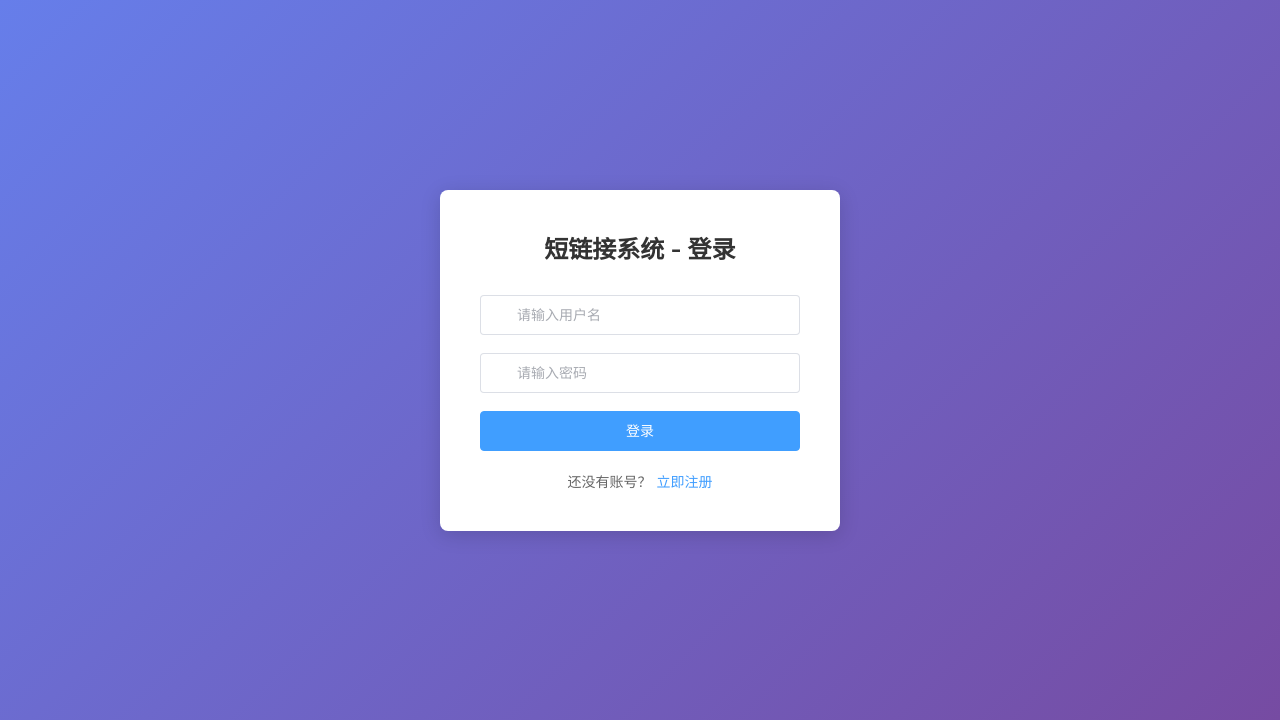
监控统计展示测试 › 正常监控统计展示流程 › 应正确显示地区分布图表
This screenshot has width=1280, height=720.
Type "testuser" into the field with placeholder "请输入用户名". click: {"x": 651, "y": 315}
box: [517,296,785,334]
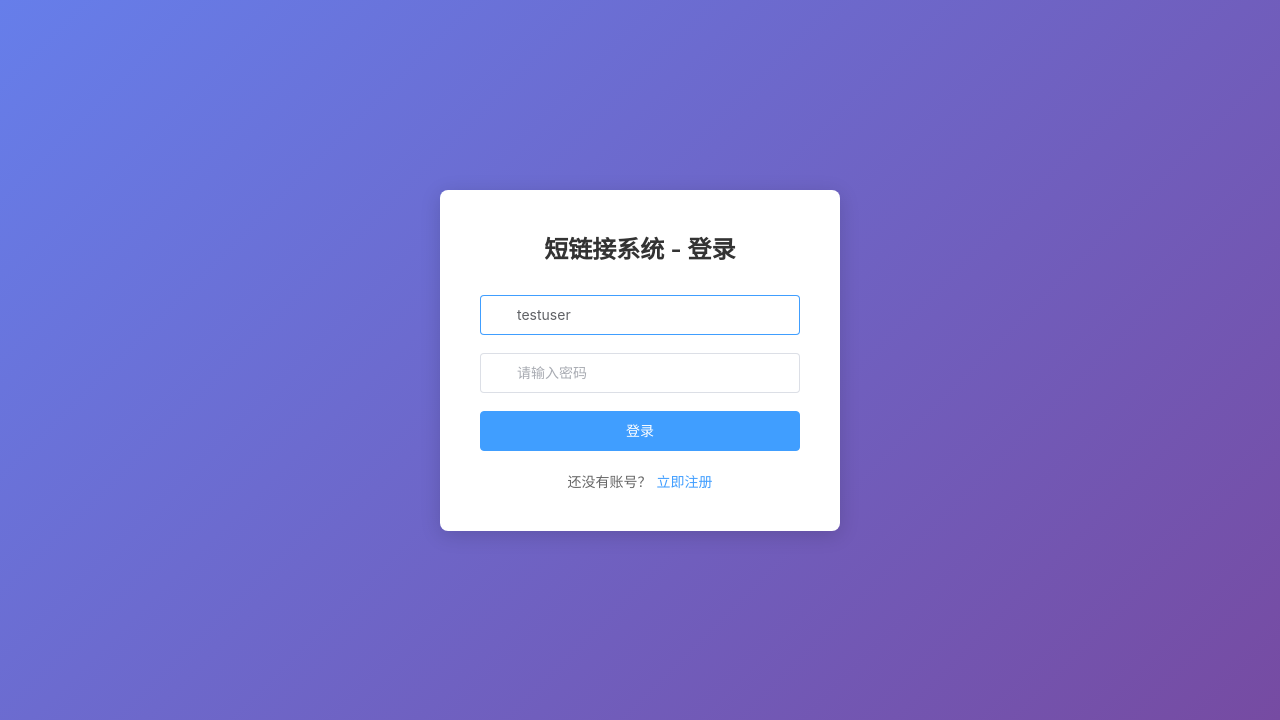
Type "test123456" into the password field with placeholder "请输入密码". click: {"x": 651, "y": 373}
box: [517,354,785,392]
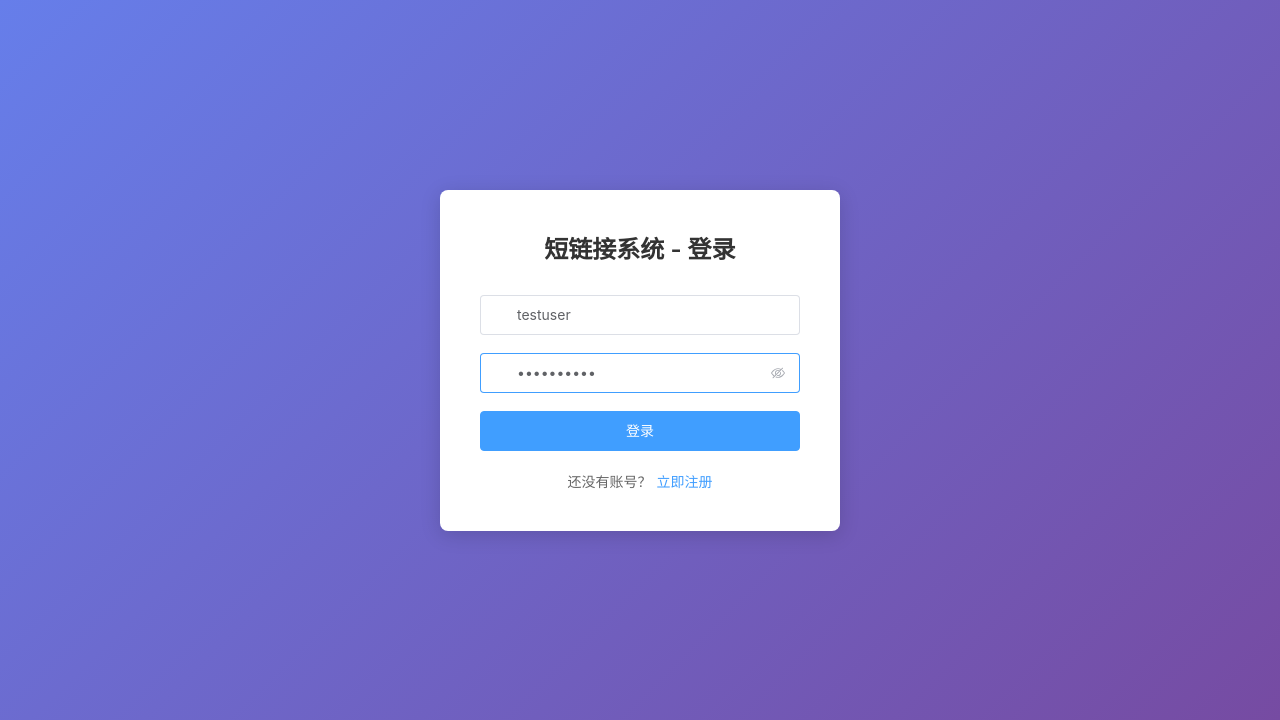
Click the button "登录". click: {"x": 640, "y": 431}
box: [480,411,800,451]
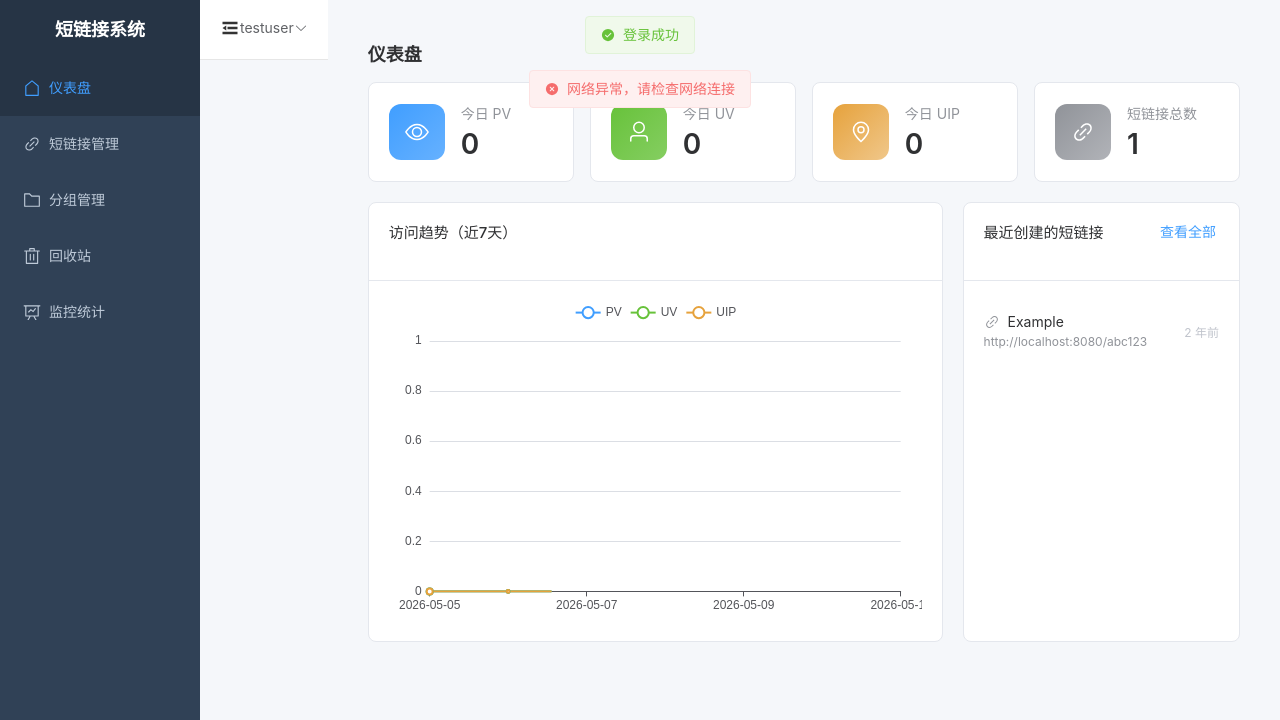
Open "/stats"
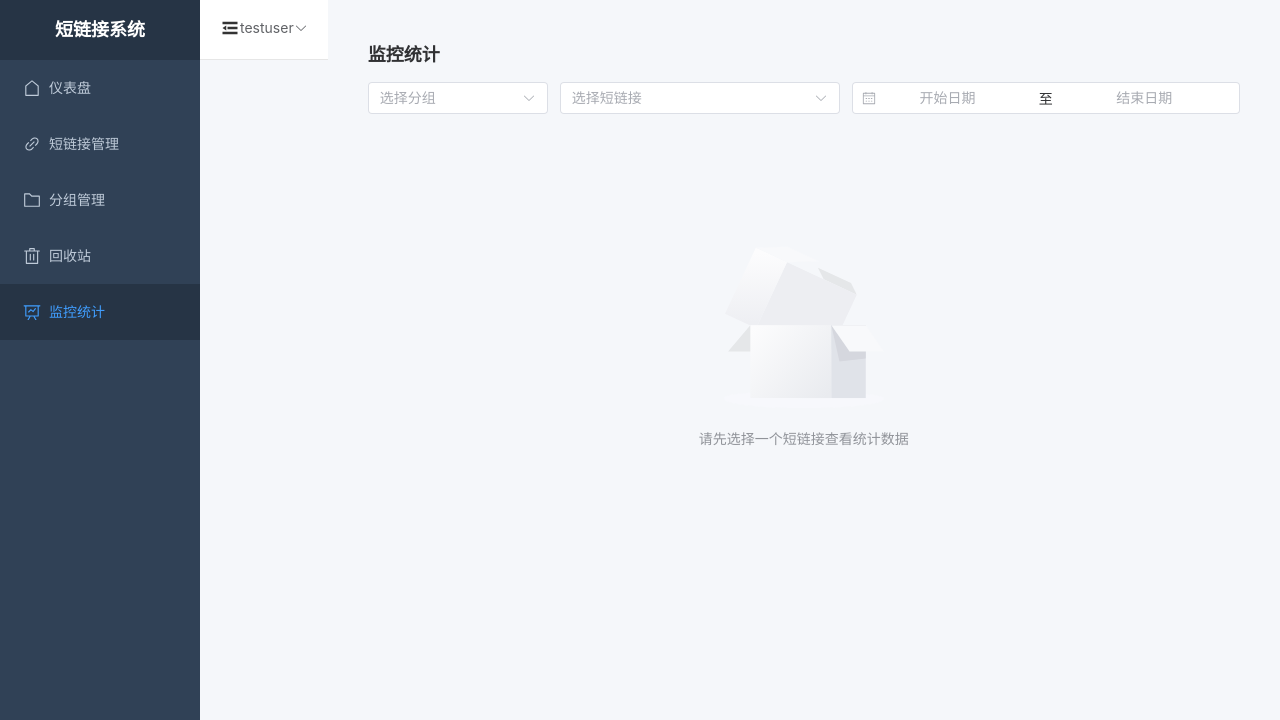
Click the element showing "选择短链接". click: {"x": 700, "y": 98}
box: [560,82,840,114]
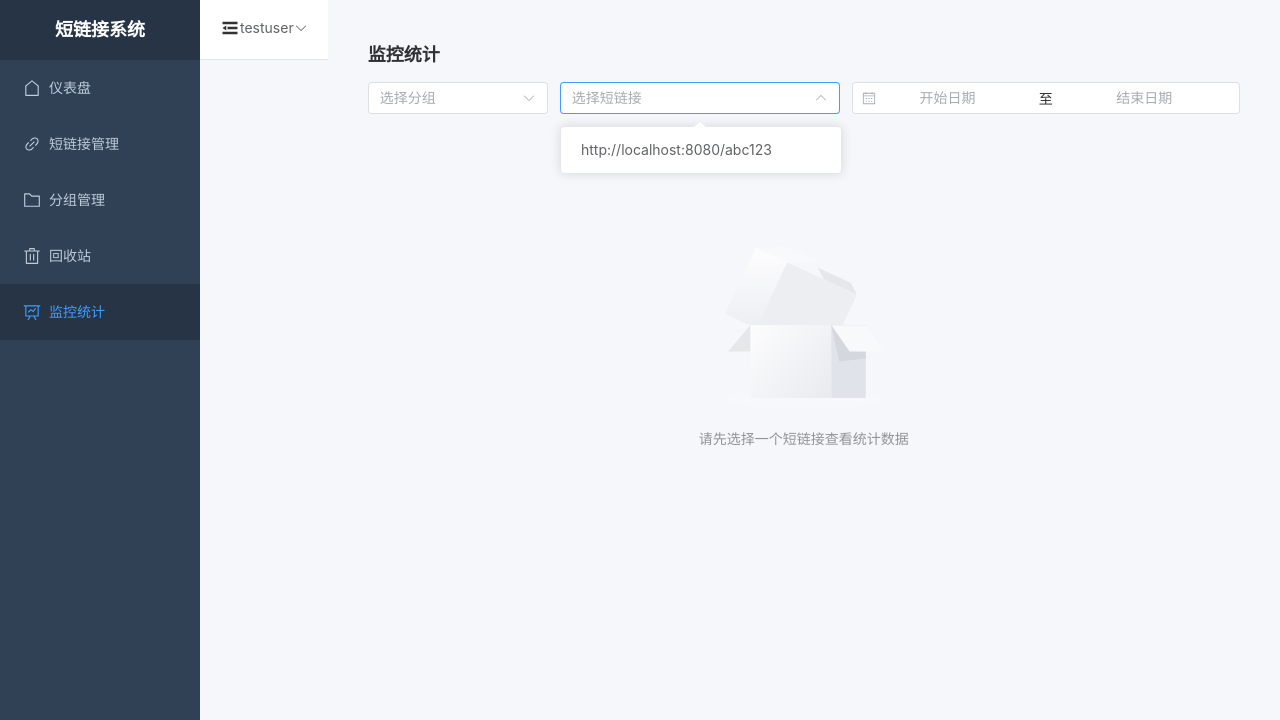
Click the text "abc123". click: {"x": 677, "y": 150}
box: [581,141,772,158]
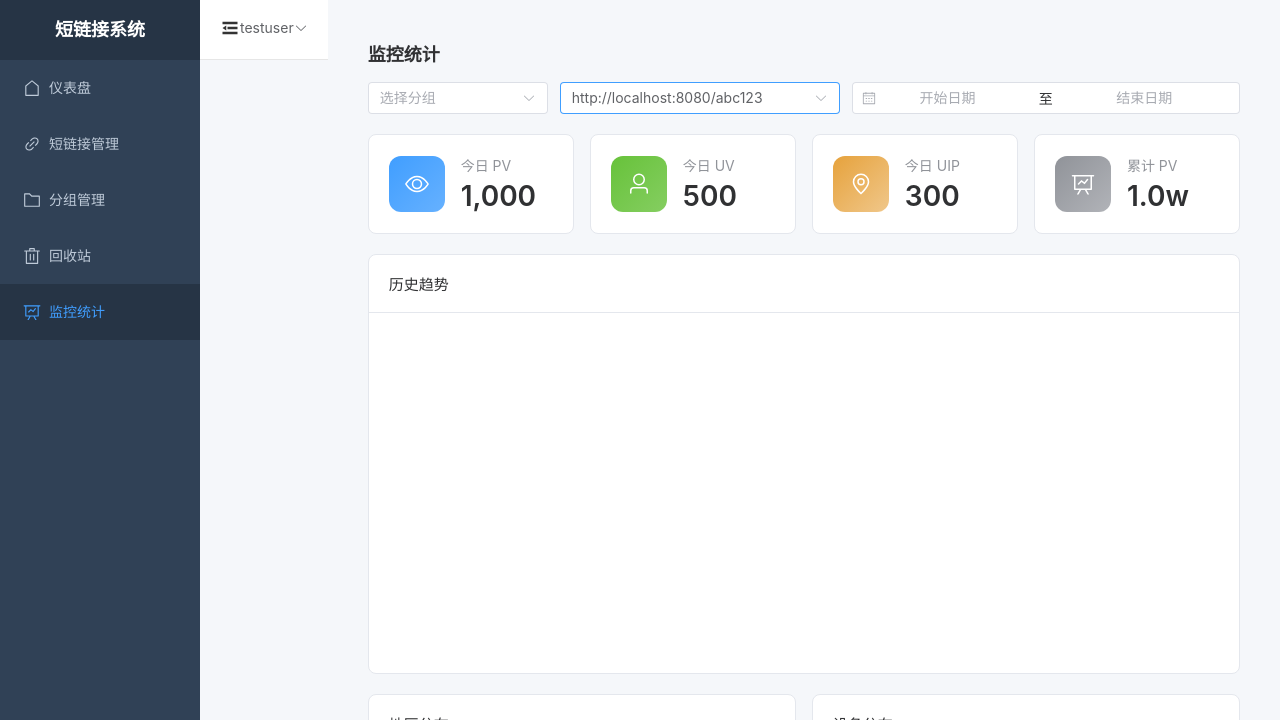
Expected: the text "地区分布" is shown, [389,715,449,719]
